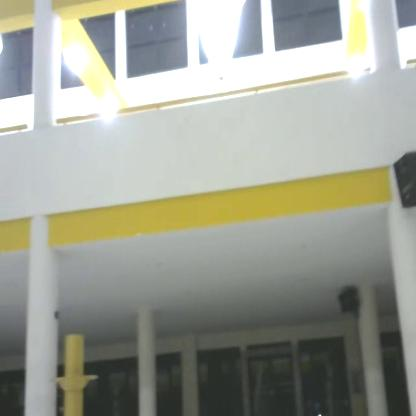pole: (47, 327, 102, 416)
